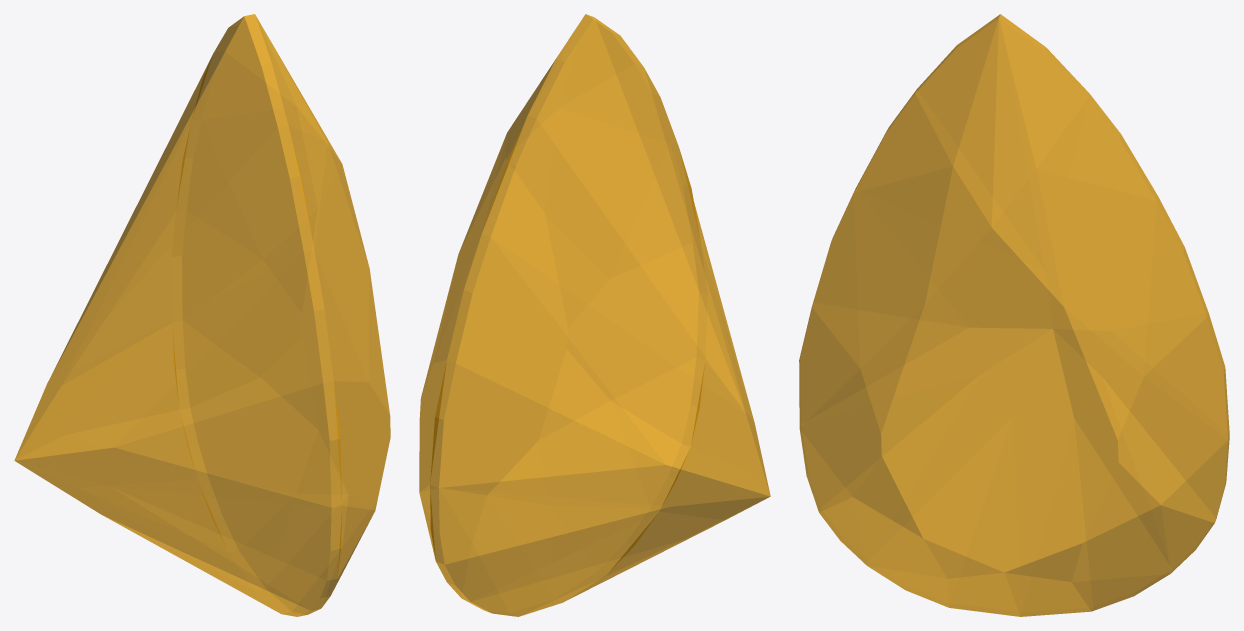
File: pear citrine.glb
3 renders of one model, left to right at view 1: azimuth 30°, elevation 25°; view 2: azimuth 150°, elevation 25°; view 3: azimuth 270°, elevation 25°, orthographic.
Visible parts, largest first — view 1: Pear (tear); view 2: Pear (tear); view 3: Pear (tear).
Boxes of the visible parts, left/top/right/bottom form: Pear (tear): left=14, top=14, right=390, bottom=616; Pear (tear): left=419, top=14, right=770, bottom=616; Pear (tear): left=799, top=14, right=1229, bottom=616.
Size of the model in its own units: 1.19 by 2.09 by 1.39.
